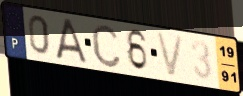0: (27, 13, 54, 58)
3: (190, 39, 214, 83)
6: (125, 28, 149, 73)
A: (54, 17, 88, 64)
C: (90, 22, 123, 70)
V: (154, 30, 186, 80)
